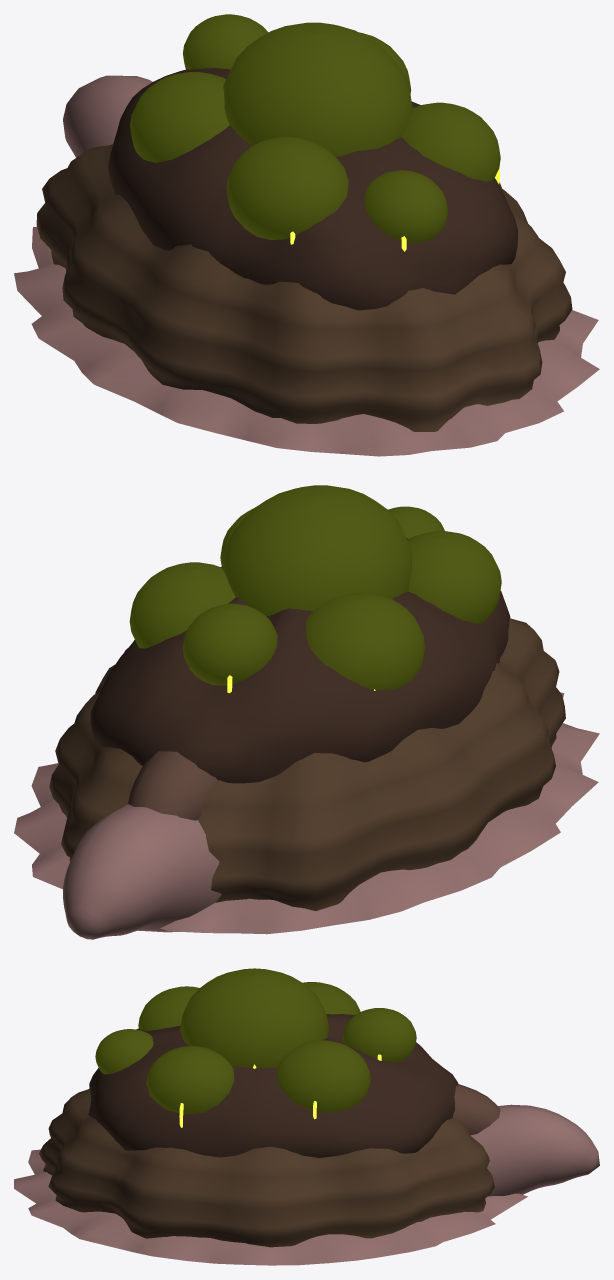
File: v2_creatures.glb
3 views of the same model, one above another, from view 1: azimuth 30°, elevation 25°; view 2: azimuth 150°, elevation 25°; view 3: azimuth 270°, elevation 25° (orthographic). The views are drawn at different scales.
Visible parts, largest first — view 1: Shell, BladderSacs, Bladder, ShellFoot; view 2: Shell, BladderSacs, Bladder, ShellFoot, BladderFoot; view 3: Shell, BladderSacs, Bladder, ShellFoot, BladderFoot.
Boxes of the visible parts, left/top/right/bottom form: Shell: left=36, top=144, right=572, bottom=431; BladderSacs: left=130, top=14, right=500, bottom=243; Bladder: left=108, top=68, right=517, bottom=310; ShellFoot: left=14, top=75, right=599, bottom=456; Shell: left=49, top=618, right=565, bottom=910; BladderSacs: left=129, top=485, right=501, bottom=690; Bladder: left=90, top=538, right=510, bottom=783; ShellFoot: left=14, top=692, right=599, bottom=939; BladderFoot: left=128, top=751, right=217, bottom=820; Shell: left=39, top=1088, right=494, bottom=1247; BladderSacs: left=95, top=968, right=416, bottom=1114; Bladder: left=88, top=1014, right=458, bottom=1157; ShellFoot: left=14, top=1104, right=599, bottom=1265; BladderFoot: left=453, top=1084, right=500, bottom=1135.
Size of the model in its own units: 1.5 by 0.9932 by 2.25.
